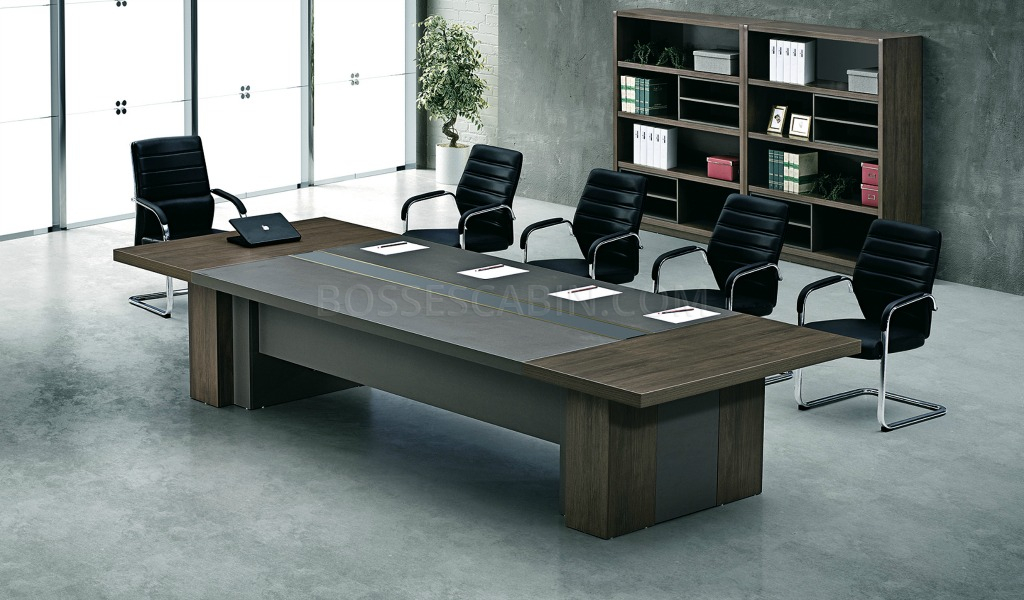conference_table: (114, 217, 861, 539)
